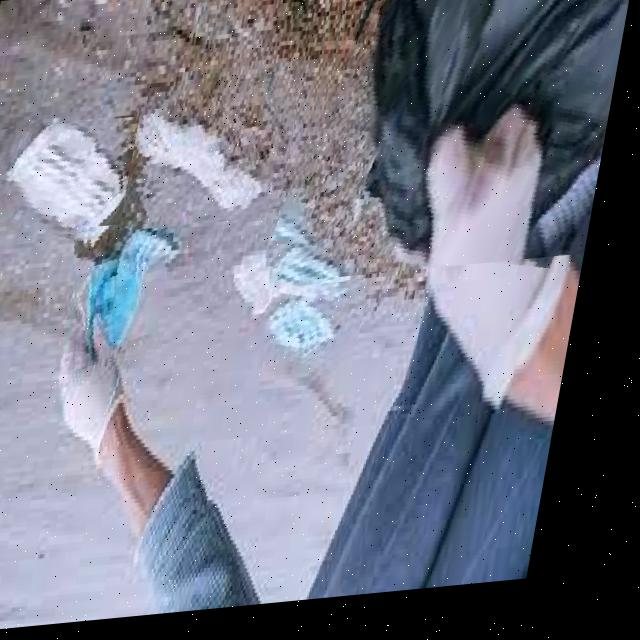litter: (286, 0, 640, 289), (127, 79, 307, 234), (0, 118, 155, 249), (70, 222, 185, 371), (257, 287, 380, 379), (278, 249, 357, 314)
